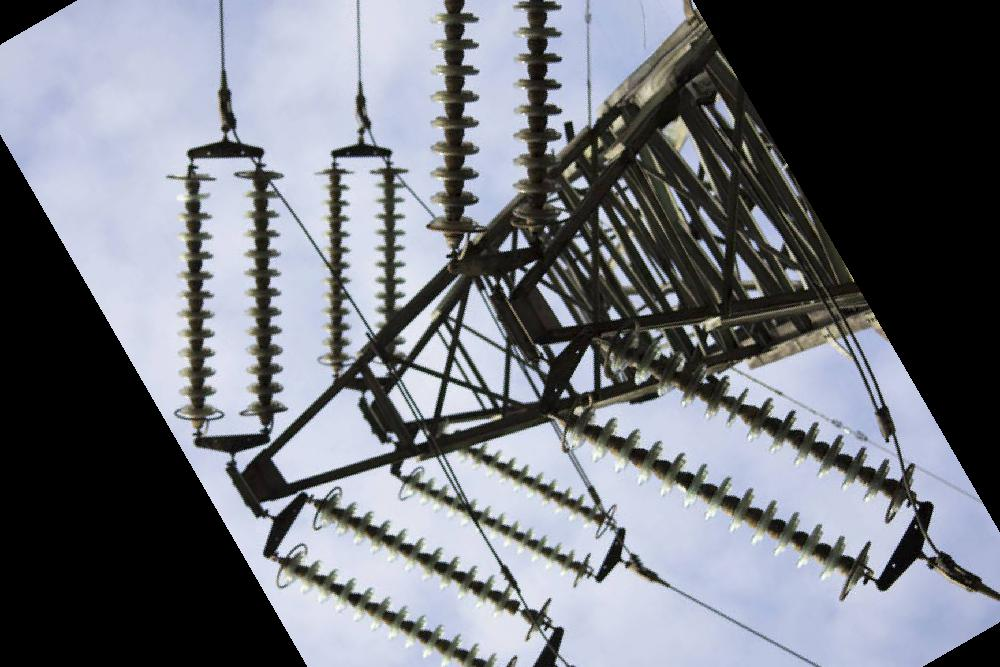insulator: (610, 333, 917, 518), (569, 406, 870, 594), (319, 491, 551, 639), (278, 551, 506, 667), (412, 474, 586, 586), (419, 1, 487, 231), (464, 439, 609, 538), (506, 1, 569, 228), (238, 170, 290, 420), (170, 173, 221, 425), (316, 168, 354, 367), (369, 165, 411, 338)
insulator_stringdrop: (488, 578, 554, 640)
